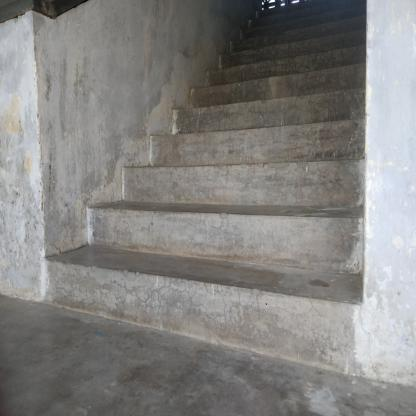stairs: (193, 91, 364, 369)
